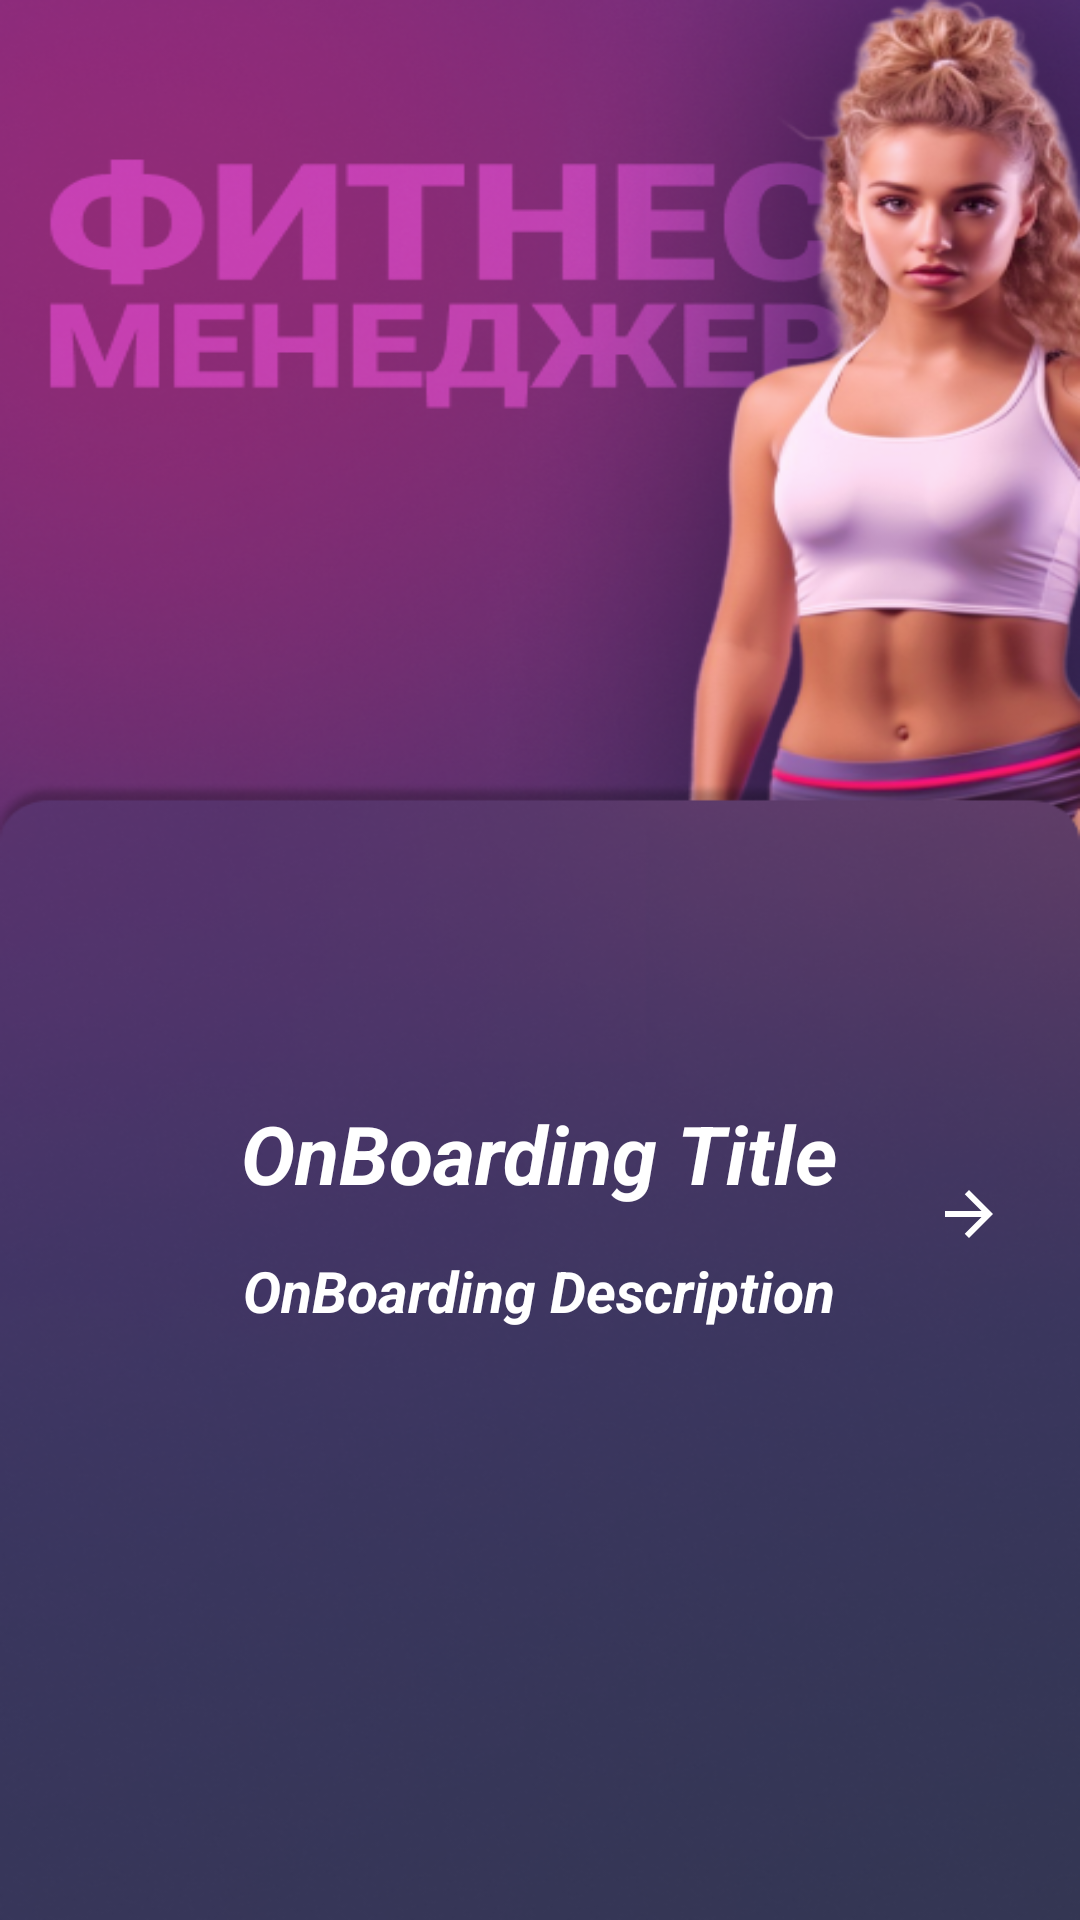

Screen size 1080*1920. Icon name, then its center in pixels as point (x, y):
meal fit arrow: point (969, 1214)
